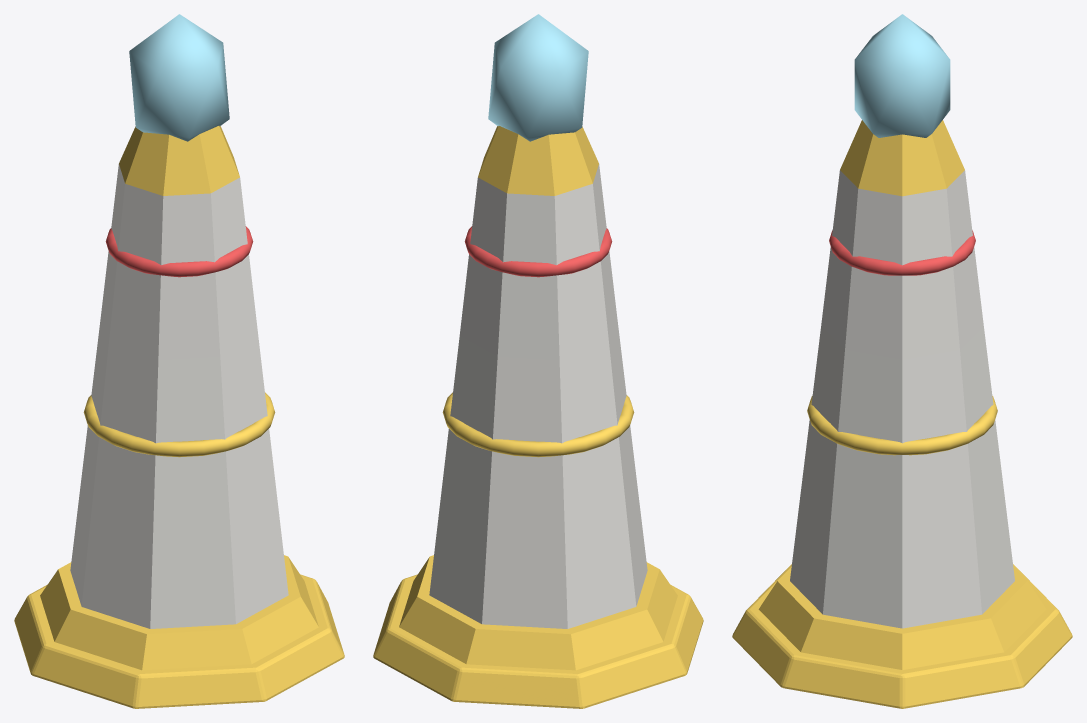
Rendered from Building_Tier4_Landmark.fbx.
The picture shows the model from 3 angles, left to right: view 1: azimuth 30°, elevation 25°; view 2: azimuth 150°, elevation 25°; view 3: azimuth 270°, elevation 25°; orthographic projection.
Visible parts, largest first — view 1: Building_Tier4_Landmark, Landmark_Crystal; view 2: Building_Tier4_Landmark, Landmark_Crystal; view 3: Building_Tier4_Landmark, Landmark_Crystal.
Boxes of the visible parts, x1,y1,x2,y2 form: Building_Tier4_Landmark: (14, 126, 344, 708); Landmark_Crystal: (129, 14, 229, 141); Building_Tier4_Landmark: (373, 126, 703, 708); Landmark_Crystal: (488, 14, 588, 141); Building_Tier4_Landmark: (732, 120, 1072, 708); Landmark_Crystal: (854, 14, 950, 137).
Size of the model in its own units: 1.09 by 2.2 by 1.09.
